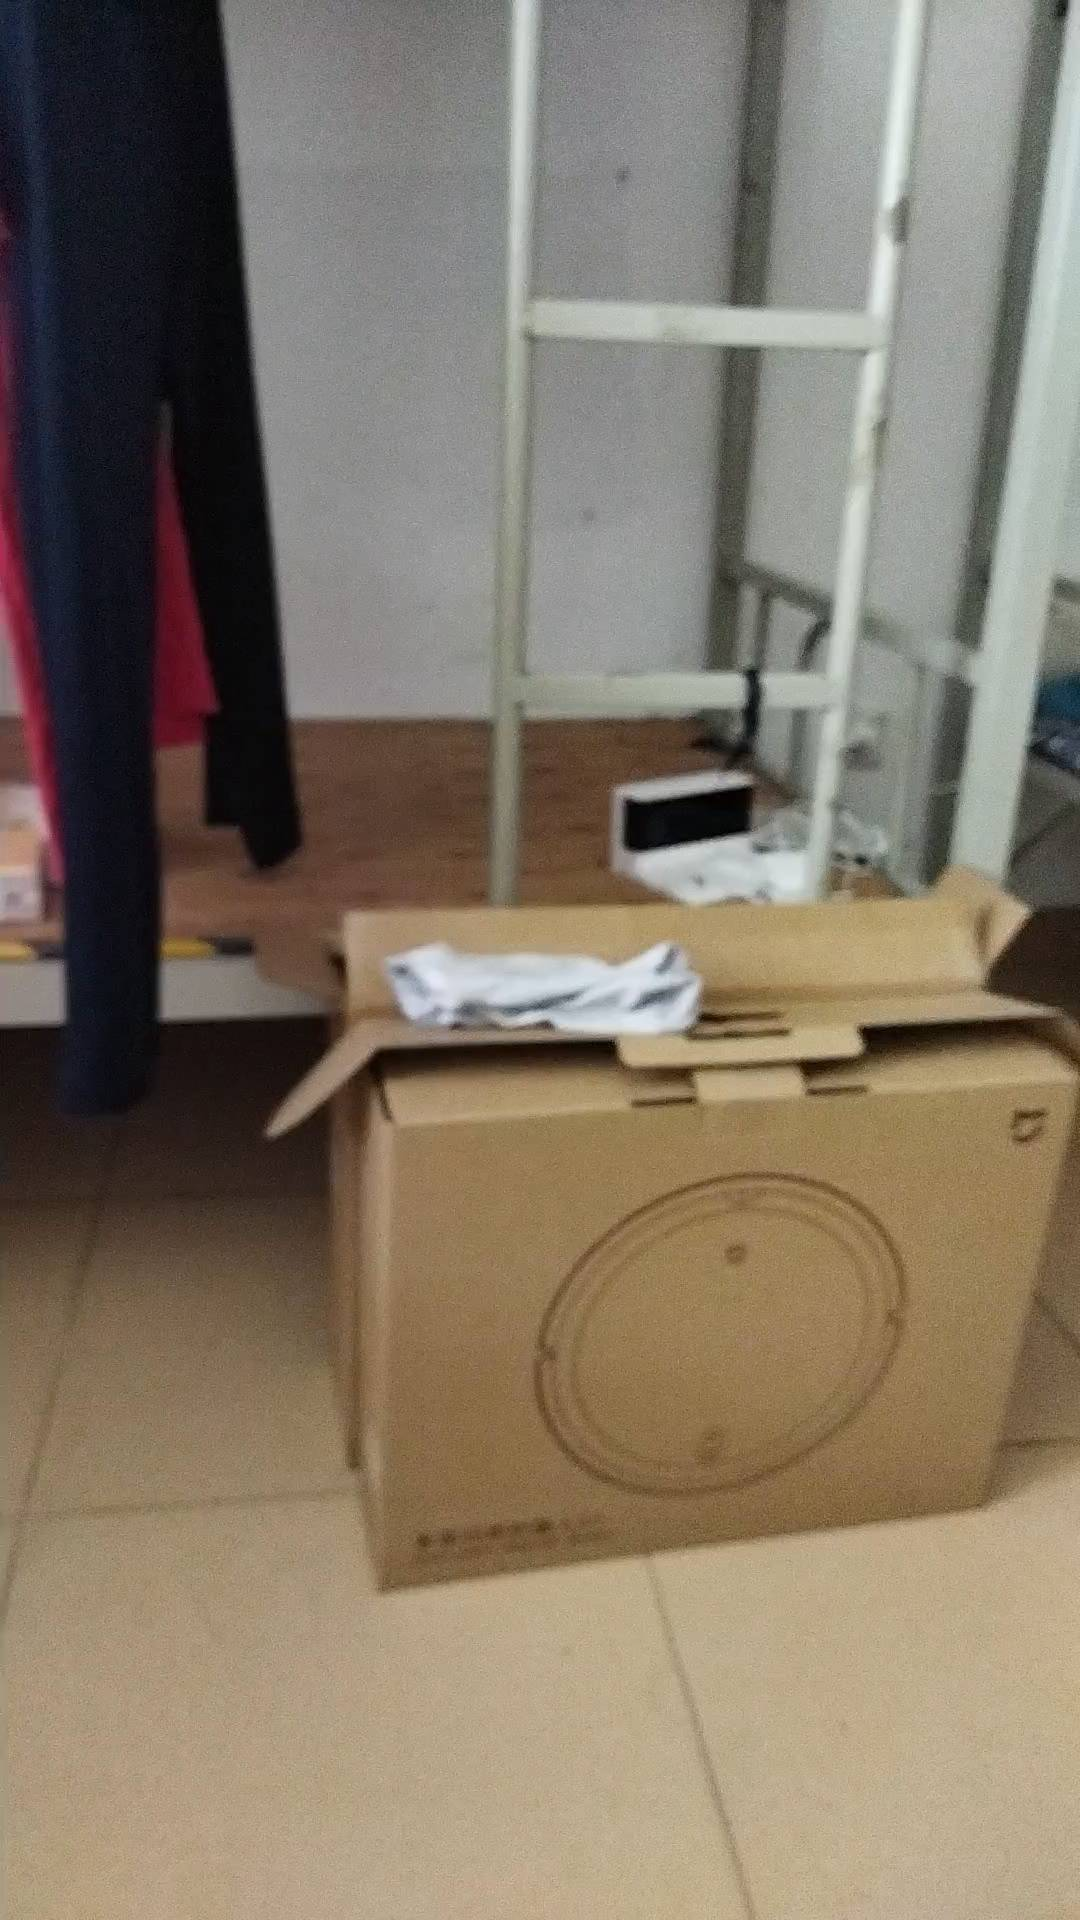recharge seat: (607, 767, 794, 907)
